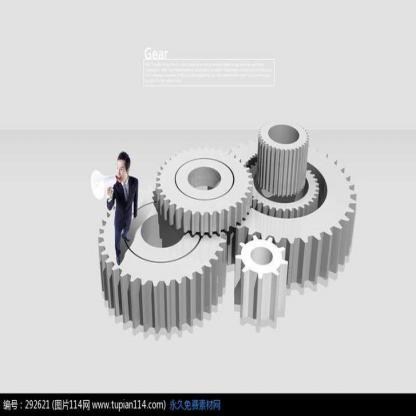FOD: (98, 189, 230, 334), (239, 145, 359, 289), (152, 145, 256, 237), (234, 236, 293, 331), (255, 112, 309, 200), (252, 164, 324, 217)
